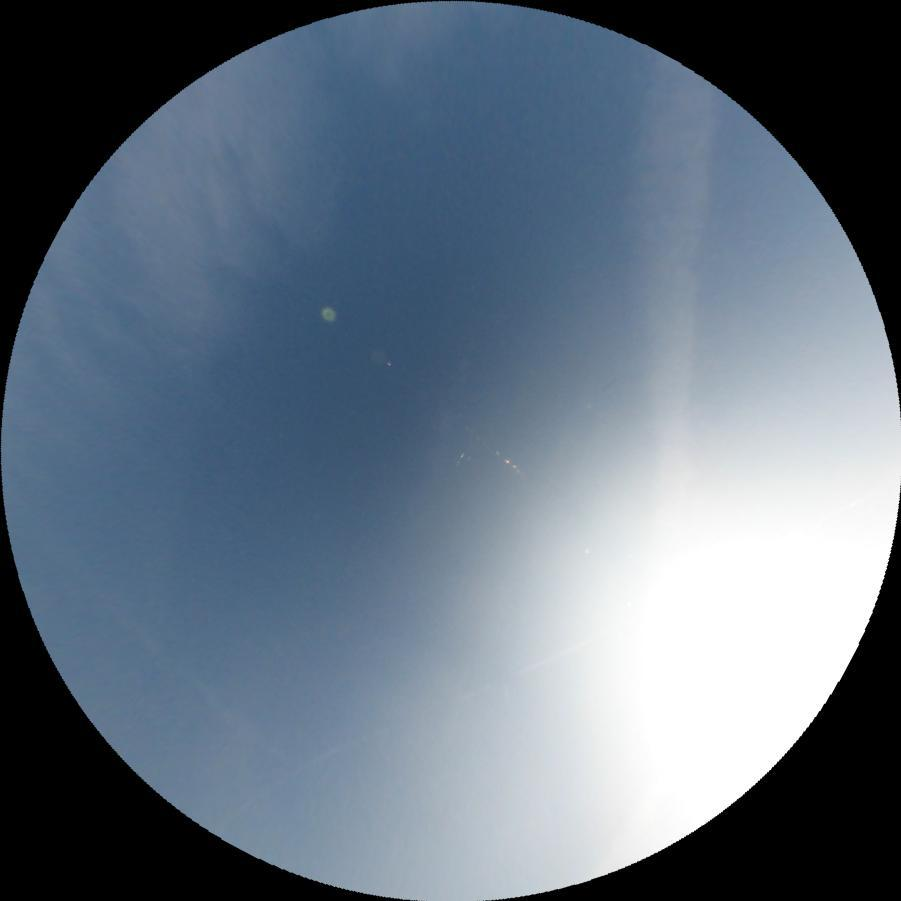contrail veryold: (621, 51, 712, 518)
contrail young: (201, 608, 618, 836)
sun: (578, 472, 895, 828)
